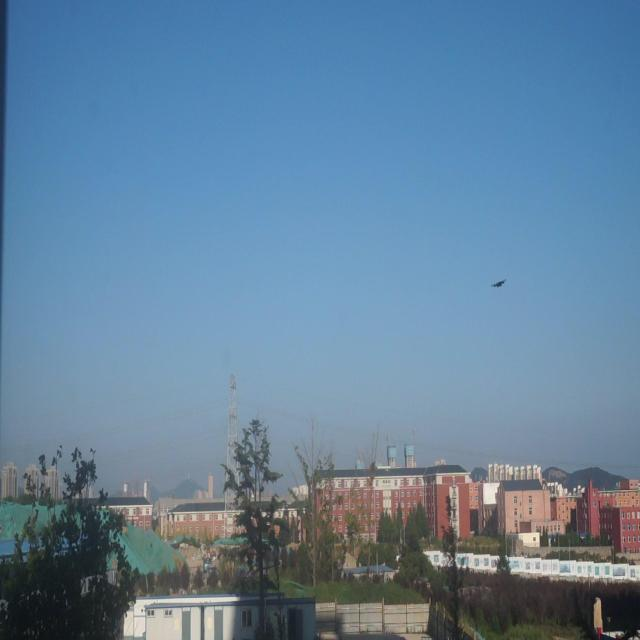drone: (492, 274, 508, 294)
